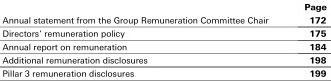column: (2, 1, 270, 82), (304, 1, 328, 82)
row: (1, 42, 331, 52), (1, 68, 331, 78), (1, 56, 330, 66), (1, 3, 331, 12), (1, 16, 331, 25), (1, 29, 331, 38)
